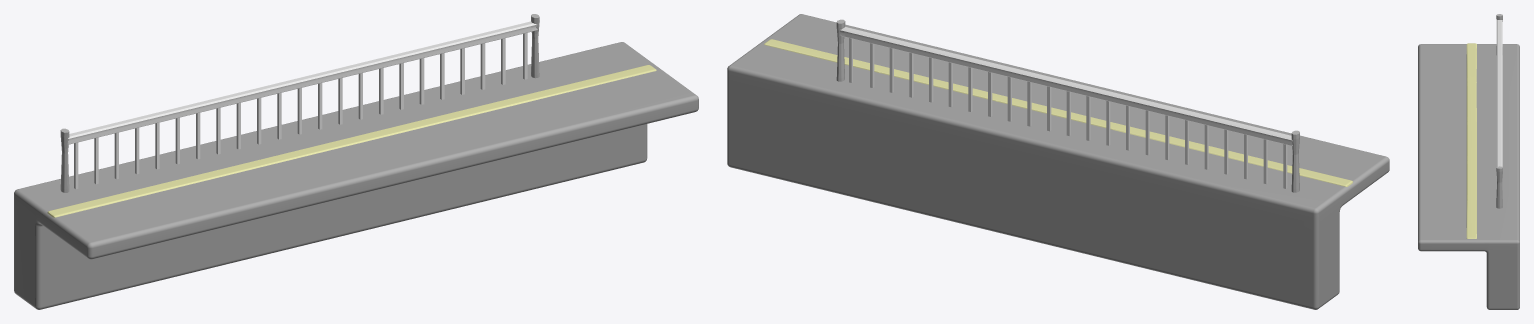
The model's file is stationbottom＿01.fbx.
The picture shows the model from 3 angles, left to right: view 1: azimuth 30°, elevation 25°; view 2: azimuth 150°, elevation 25°; view 3: azimuth 270°, elevation 25°; orthographic projection. The views are drawn at different scales.
Parts seen in each view (by area): view 1: polySurface28, polySurface1, polySurface27, polySurface2, polySurface3; view 2: polySurface28, polySurface1, polySurface27, polySurface2, polySurface3; view 3: polySurface28, polySurface27, polySurface1, polySurface3.
Part boxes in pixels (x1,y1,x2,y2): polySurface28: (14,42,698,309); polySurface1: (67,21,537,144); polySurface27: (47,65,656,217); polySurface2: (60,128,69,192); polySurface3: (531,14,539,78); polySurface28: (727,14,1389,309); polySurface1: (839,27,1292,145); polySurface27: (764,39,1352,186); polySurface2: (1291,130,1299,192); polySurface3: (836,19,845,81); polySurface28: (1418,44,1519,309); polySurface27: (1466,43,1476,238); polySurface1: (1496,20,1502,175); polySurface3: (1496,166,1502,208).
Bounding box in the file's own units: 37.13 × 9.59 × 8.07.
